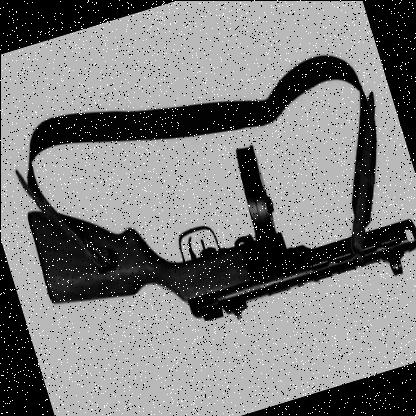rifle: (20, 90, 416, 376)
